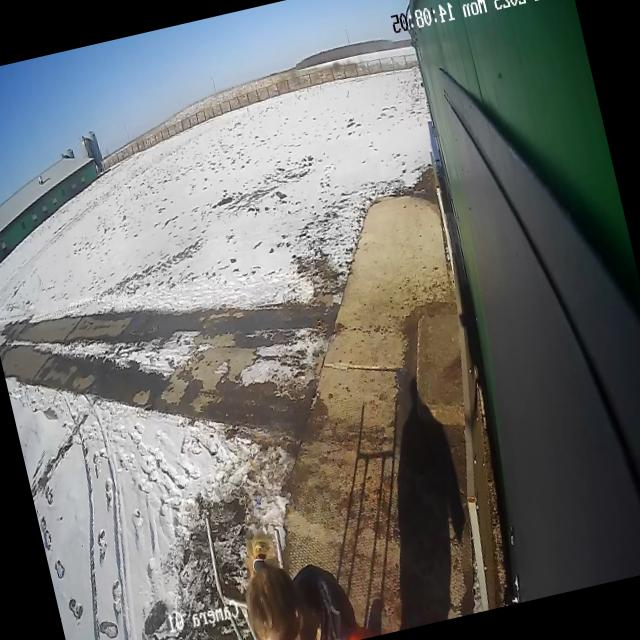Red uniform: (245, 539, 376, 640)
